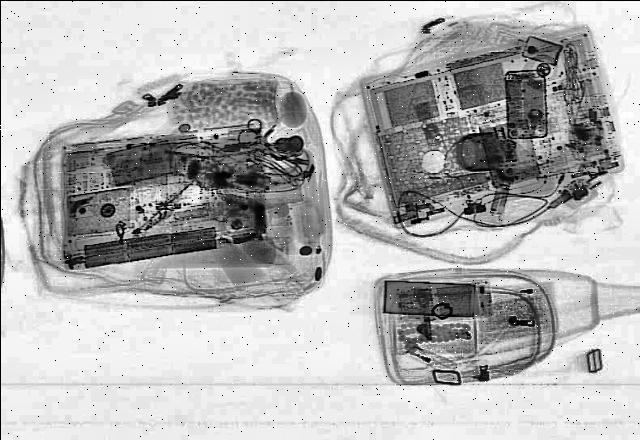Scissors: (230, 118, 298, 162)
